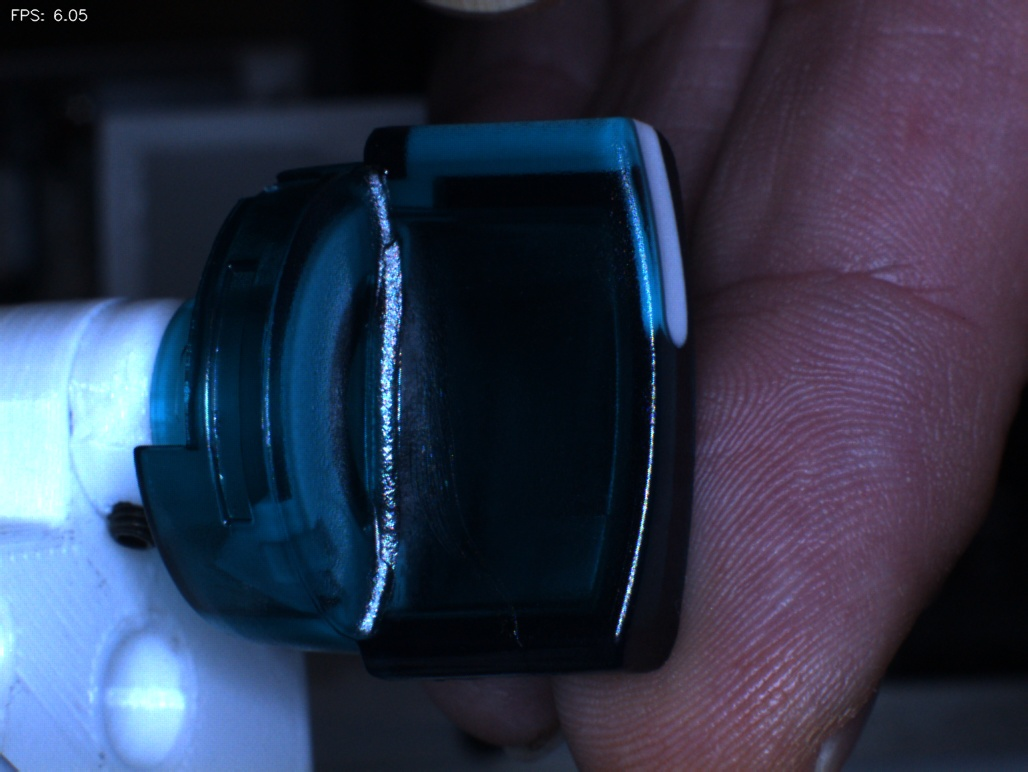Givrage: (409, 364, 491, 593)
